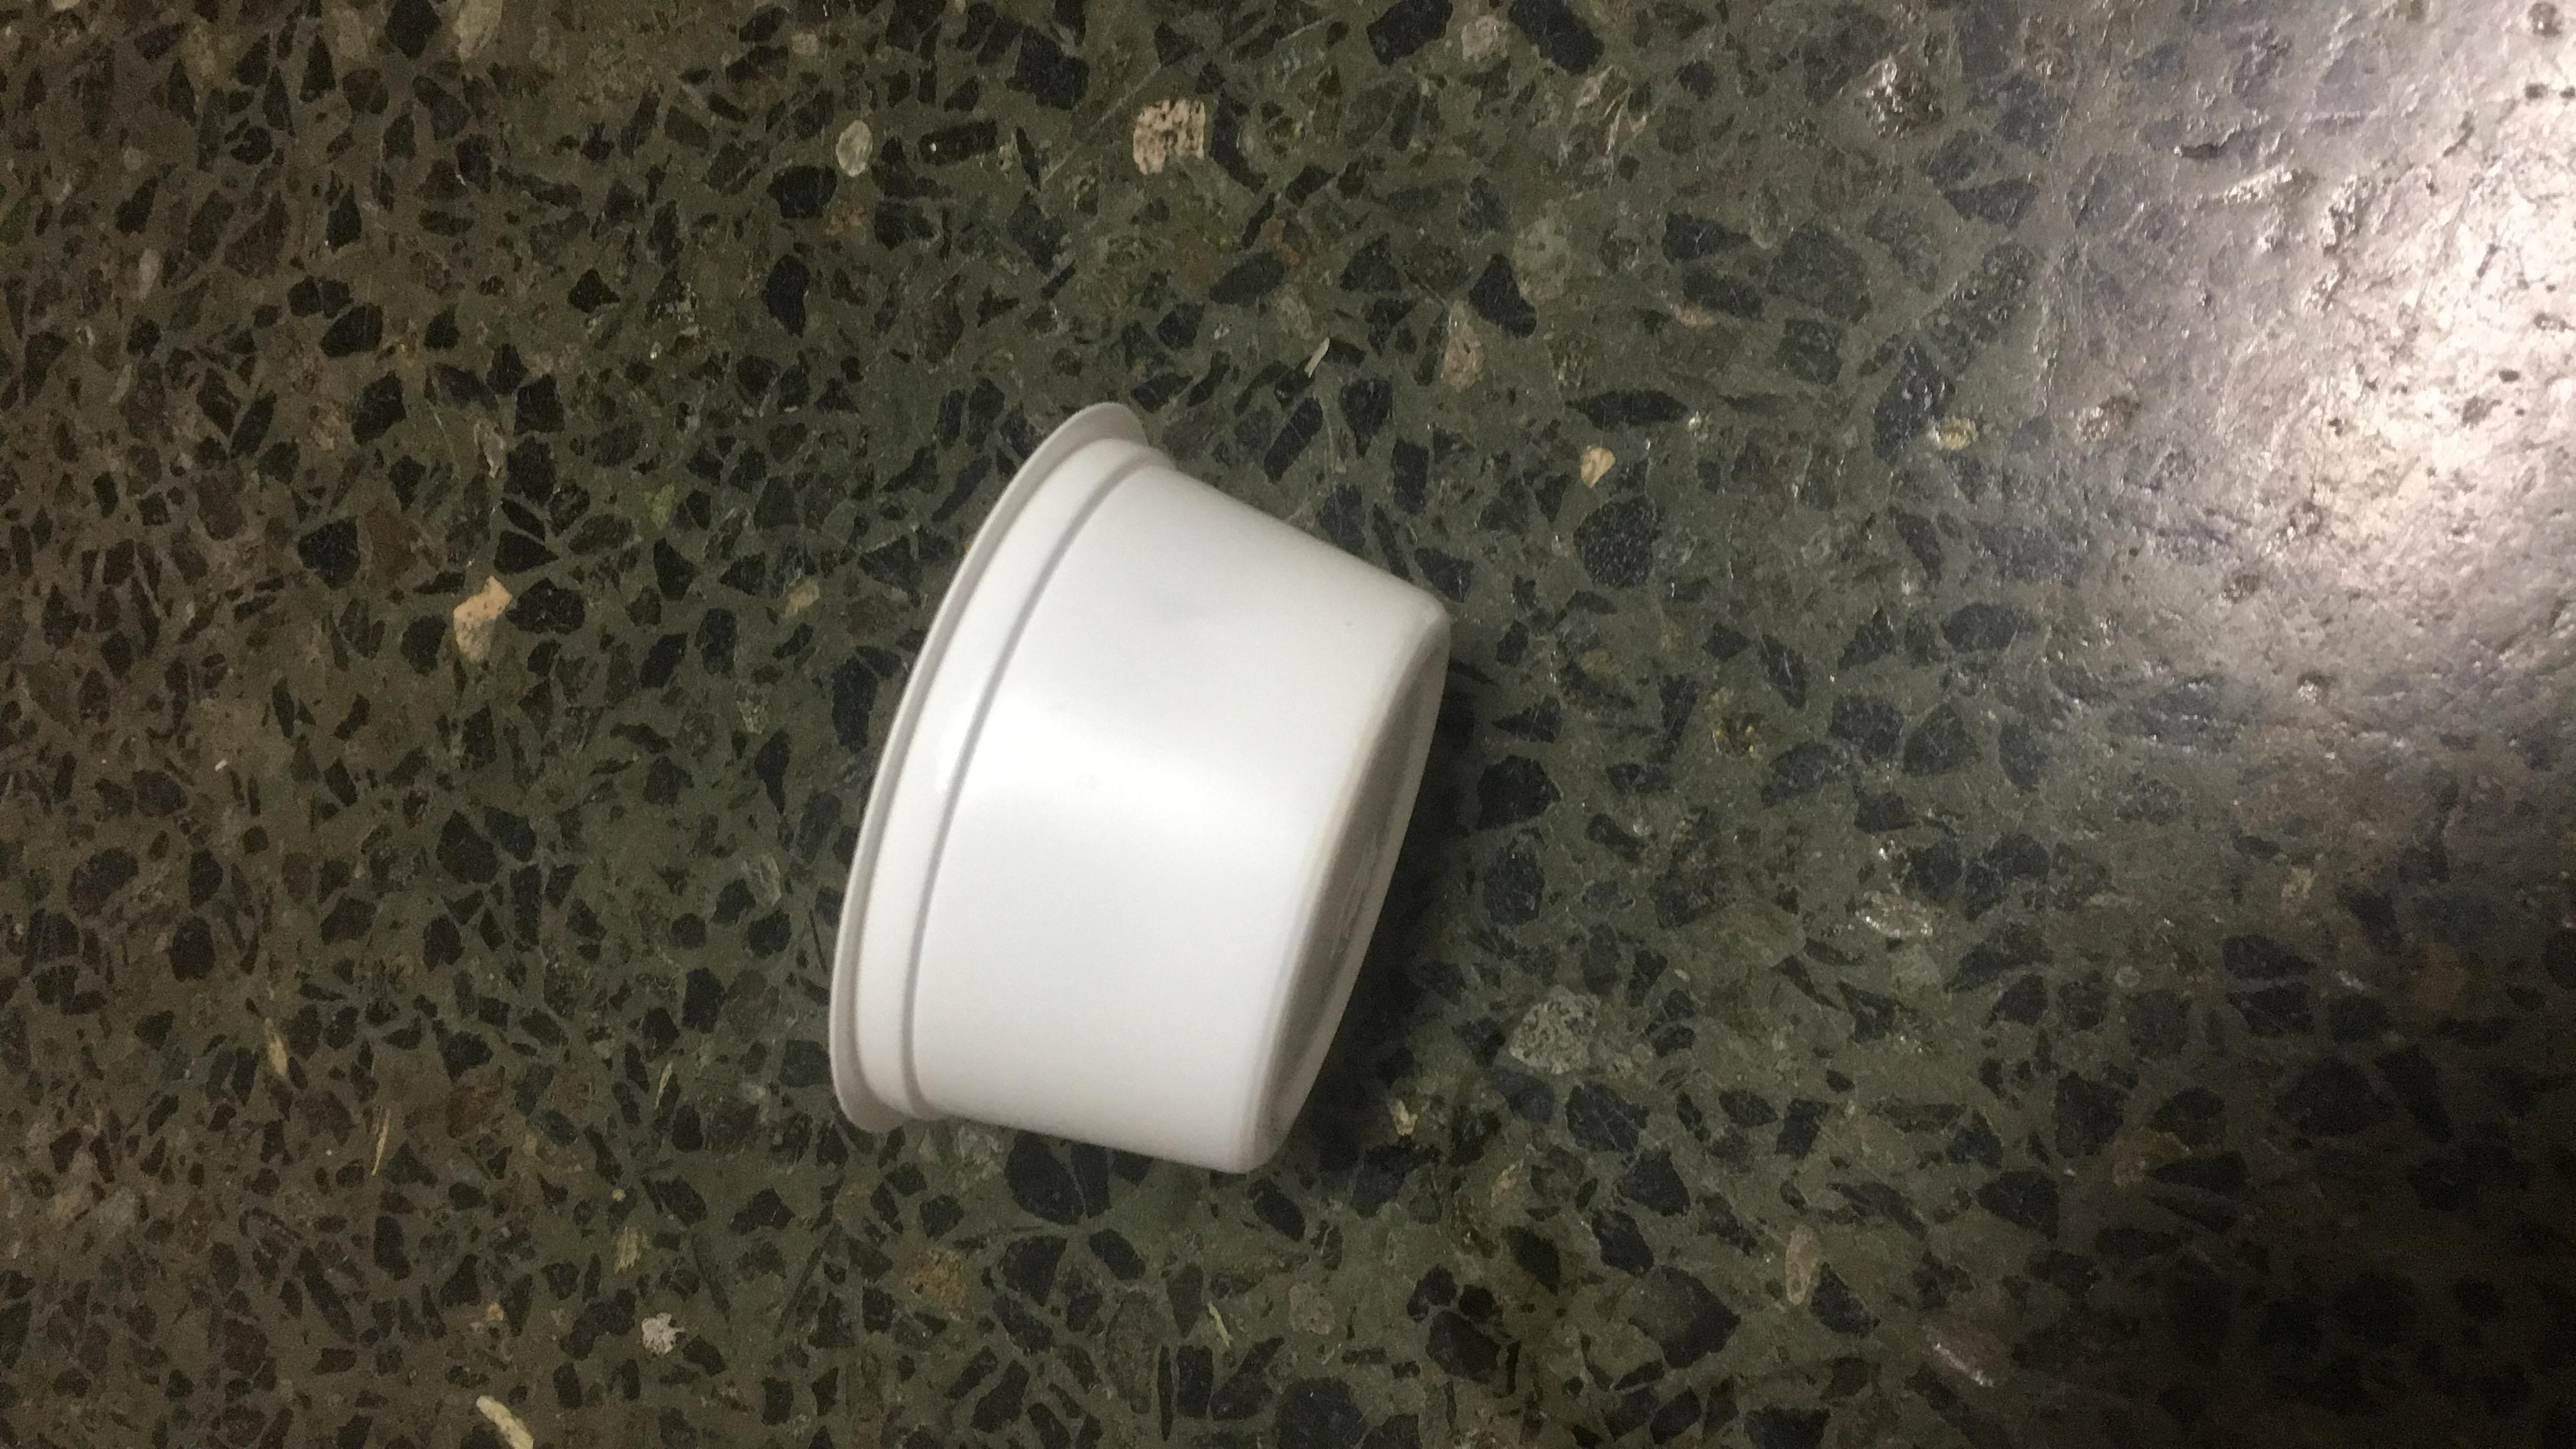bottle: (359, 432, 2058, 830)
